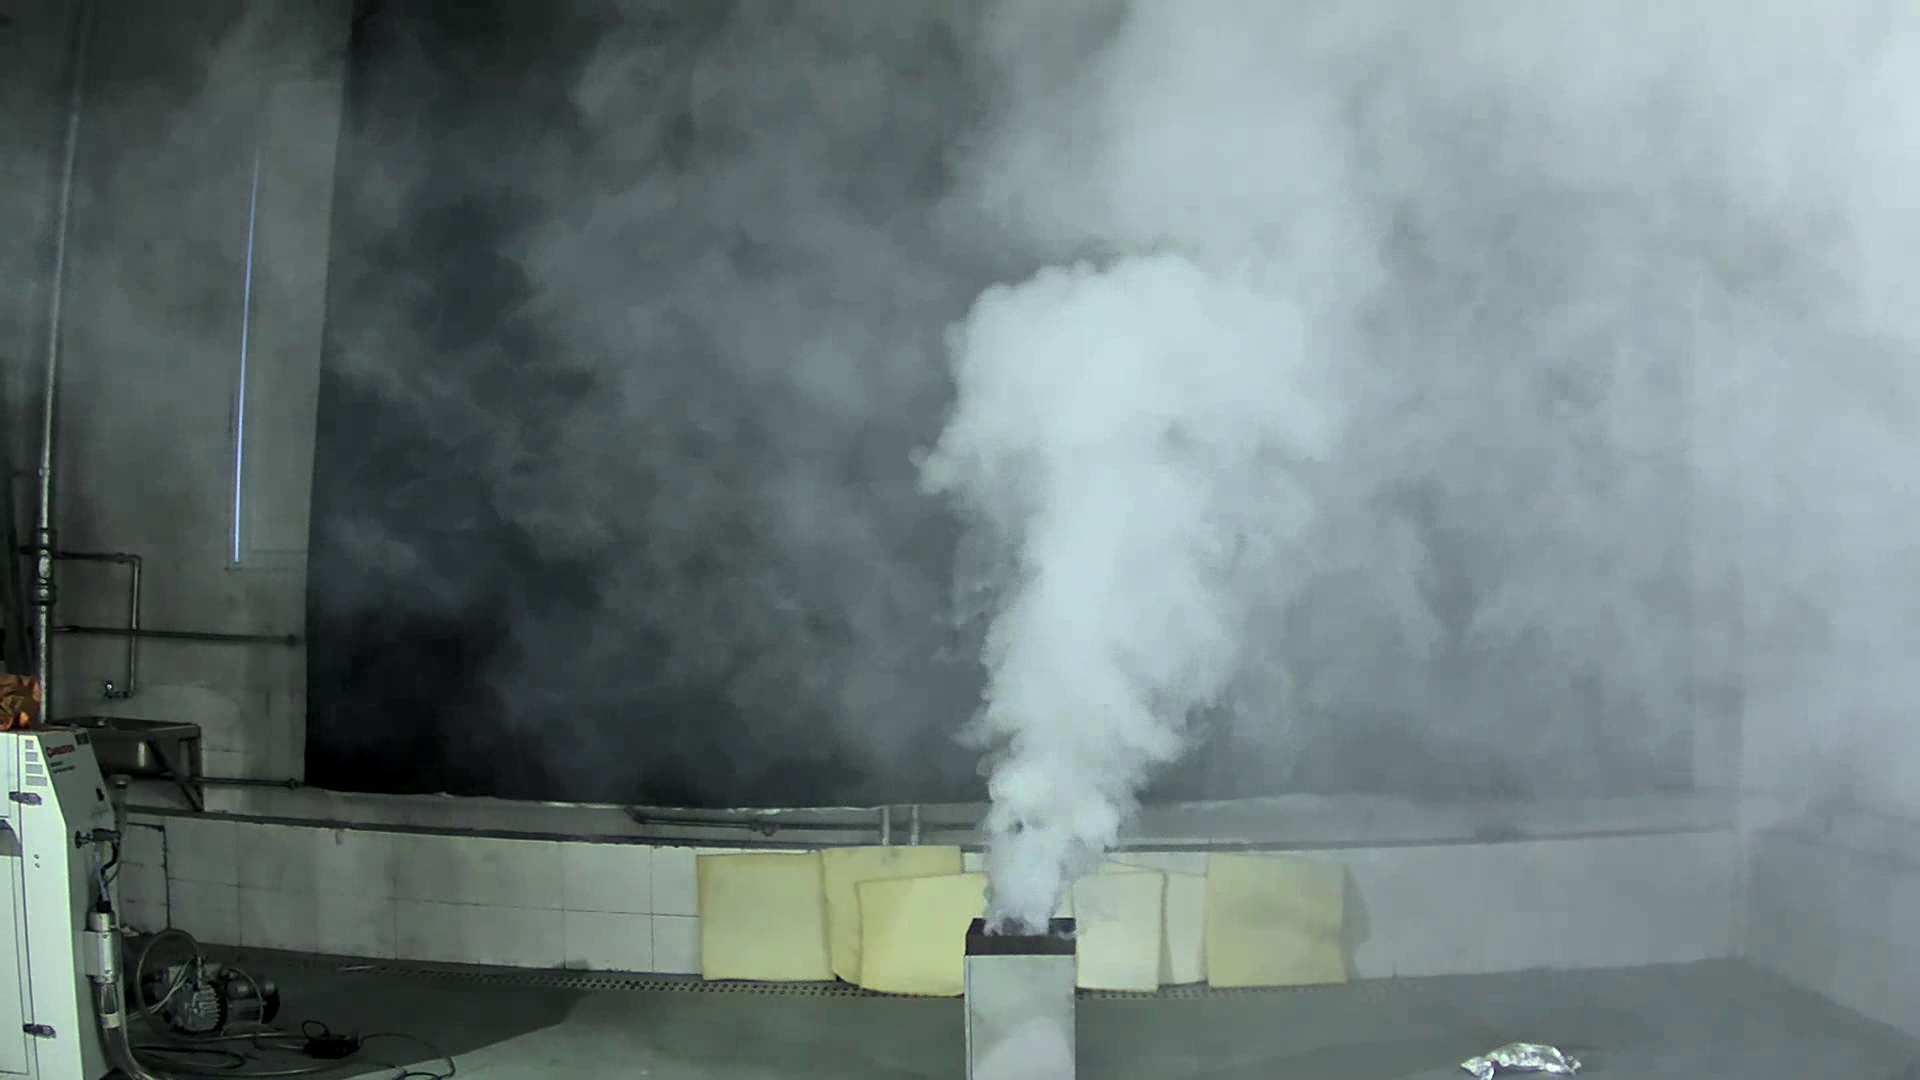smoke: (880, 18, 1822, 911)
